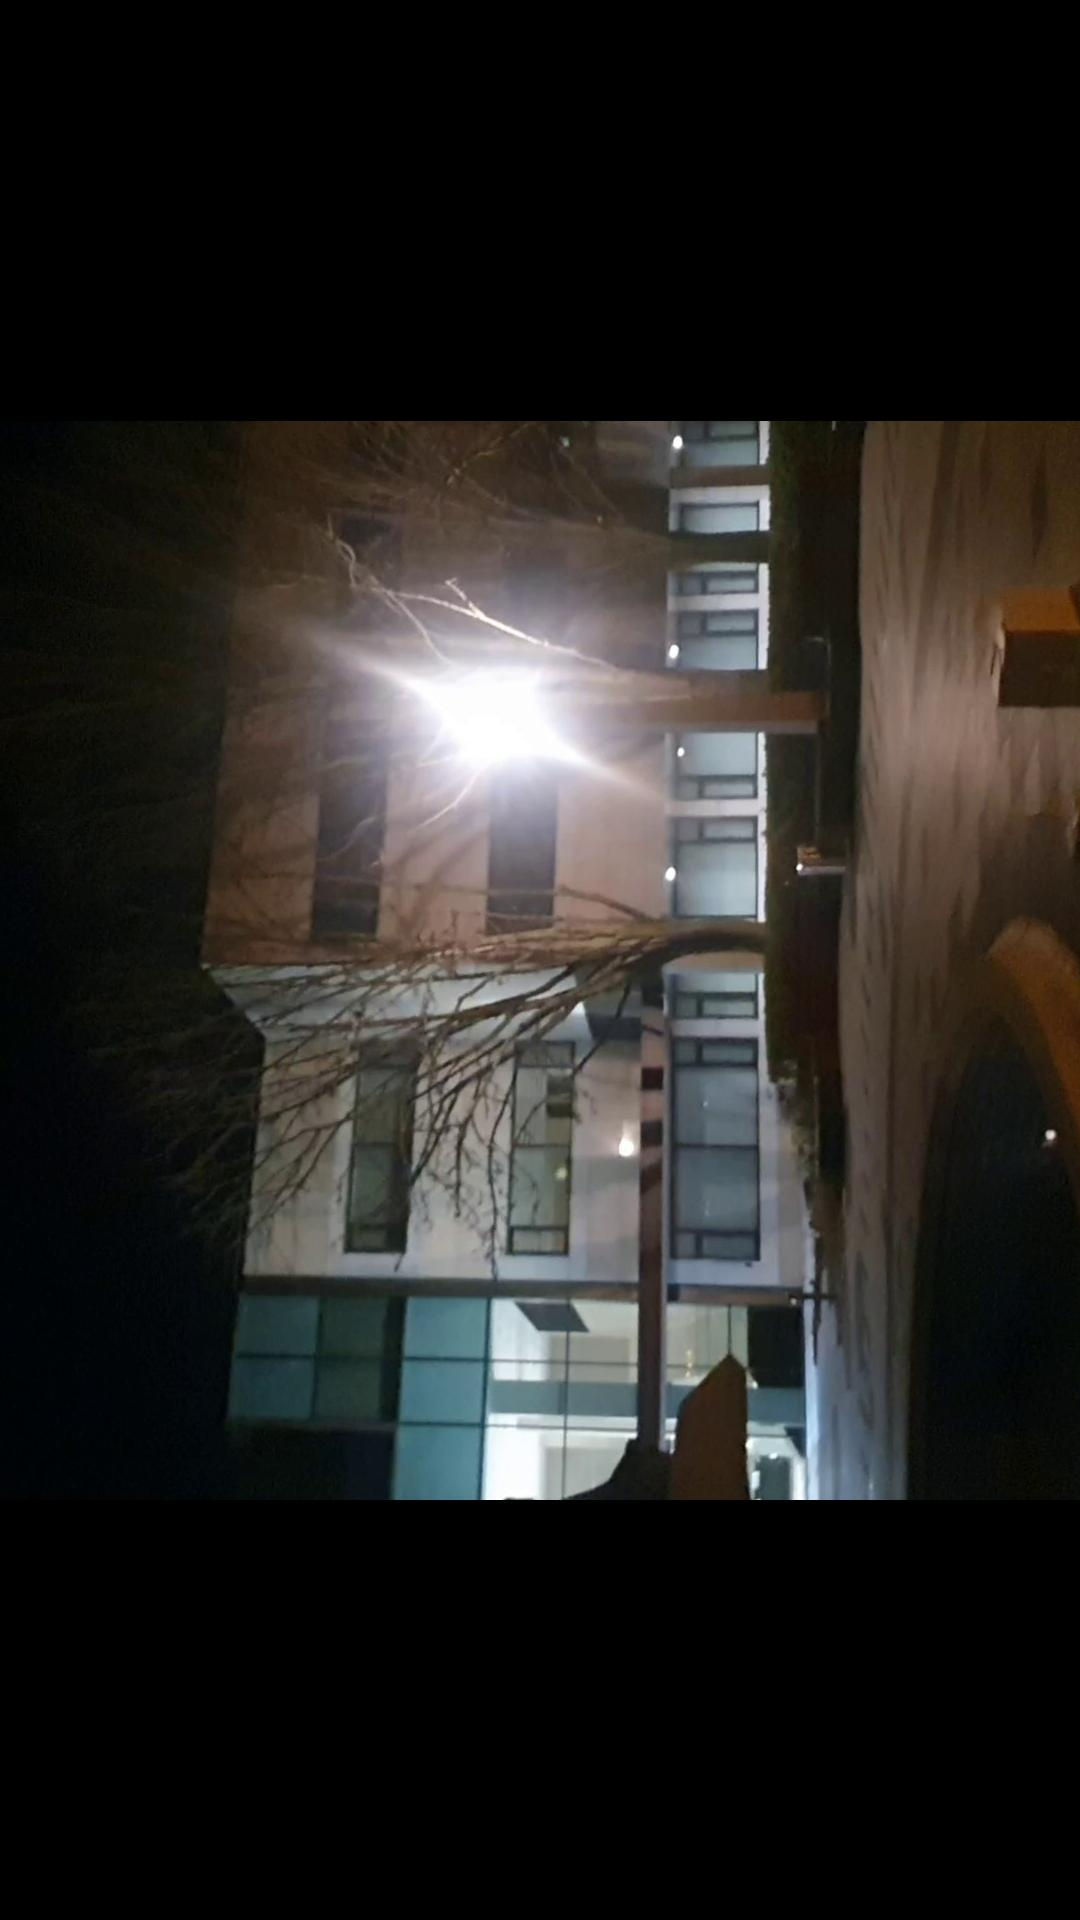Box: (968, 570, 1080, 724), (1050, 764, 1080, 880)
